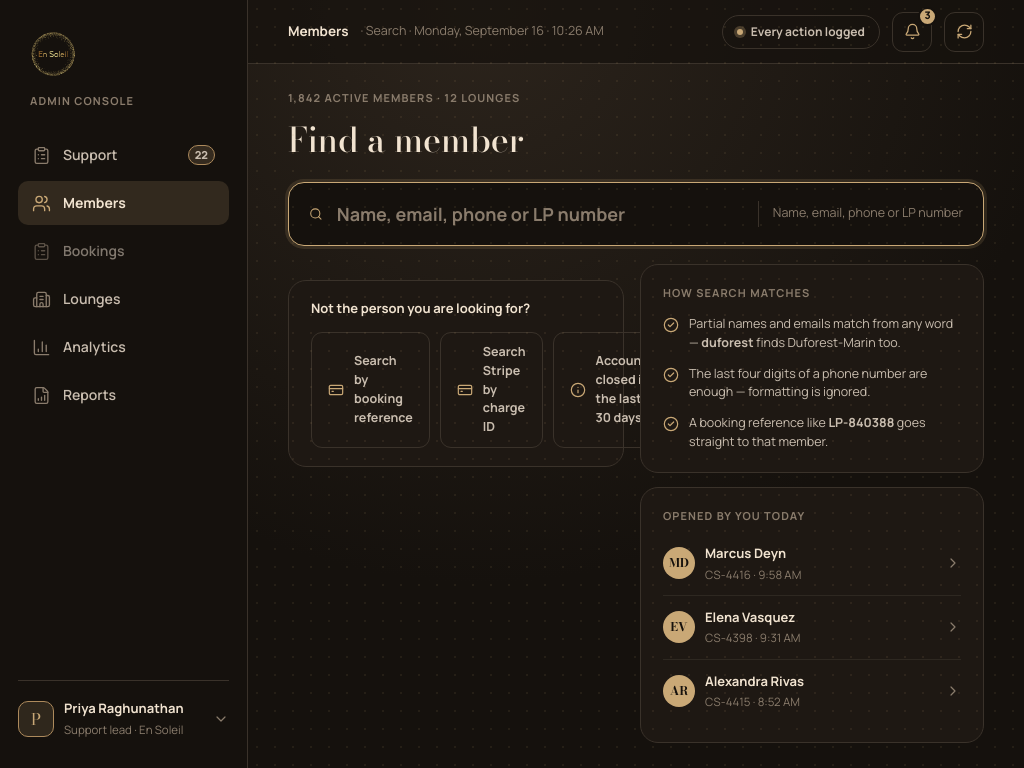
Test: Member search (/admin/members) › finds a member by the last four digits of their phone
Type "4172" into the search field labelled "Name, email, phone or LP number" at (540, 214), box [337,200,744,228]
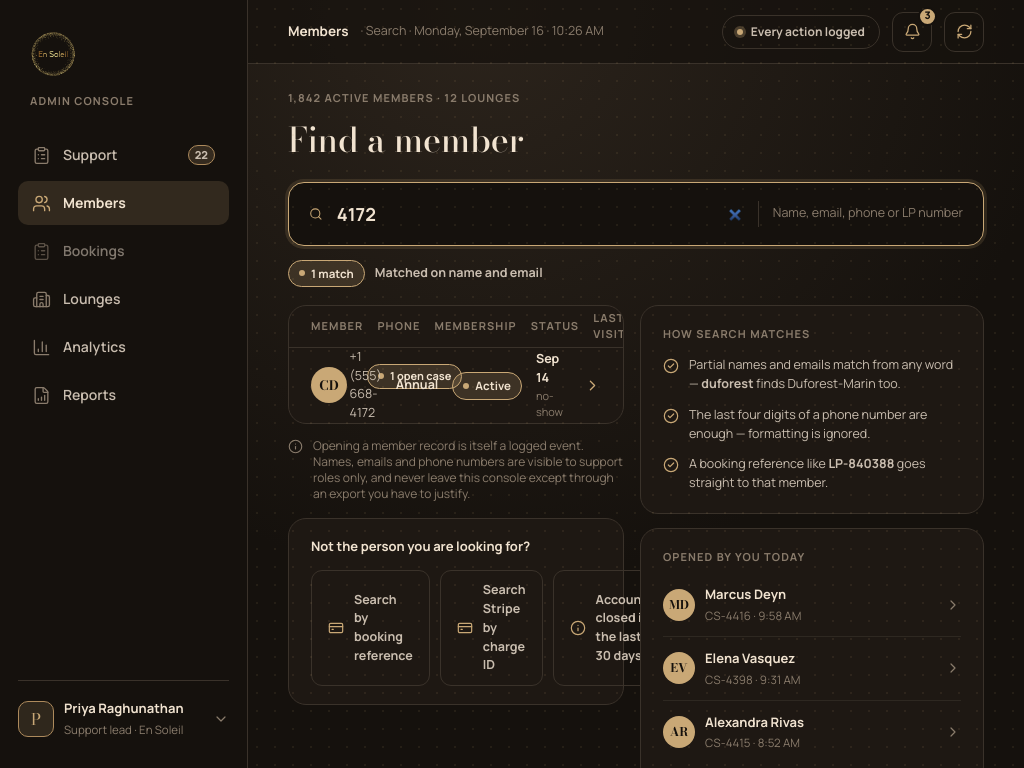
Expected: the text "1 match" is shown, [288,260,365,287]
